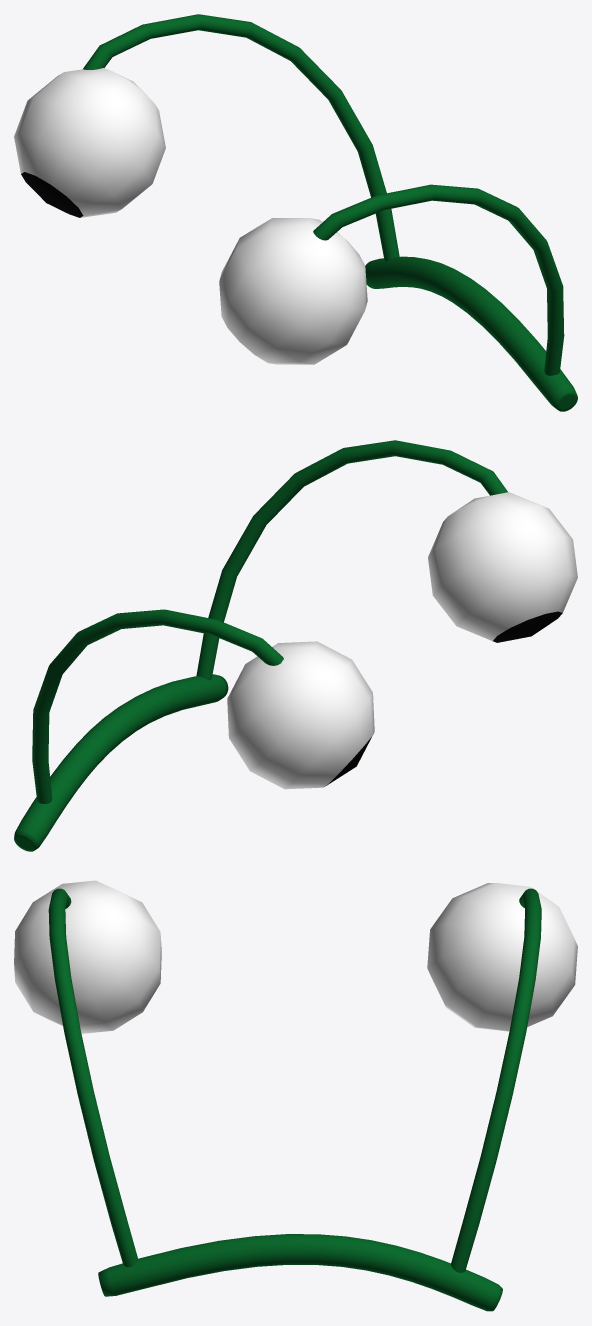
File: prop_kaibutu_eye.FBX
3 views of the same model, one above another, from view 1: azimuth 30°, elevation 25°; view 2: azimuth 150°, elevation 25°; view 3: azimuth 270°, elevation 25° (orthographic). The views are drawn at different scales.
Parts seen in each view (by area): view 1: kaibutu_eye; view 2: kaibutu_eye; view 3: kaibutu_eye.
Part boxes in pixels (x1,y1,x2,y2): kaibutu_eye: (14,14,577,411); kaibutu_eye: (14,440,577,851); kaibutu_eye: (14,880,577,1311).
Bounding box in the file's own units: 946 × 751 × 1261.
